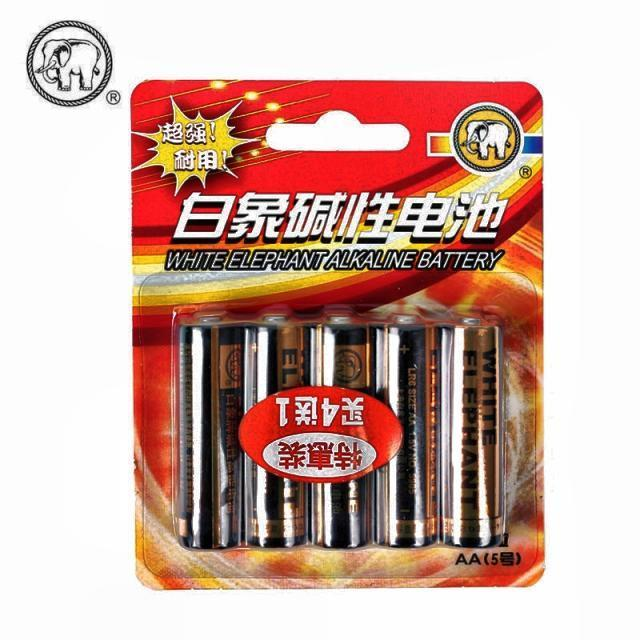battery: (178, 322, 505, 549)
